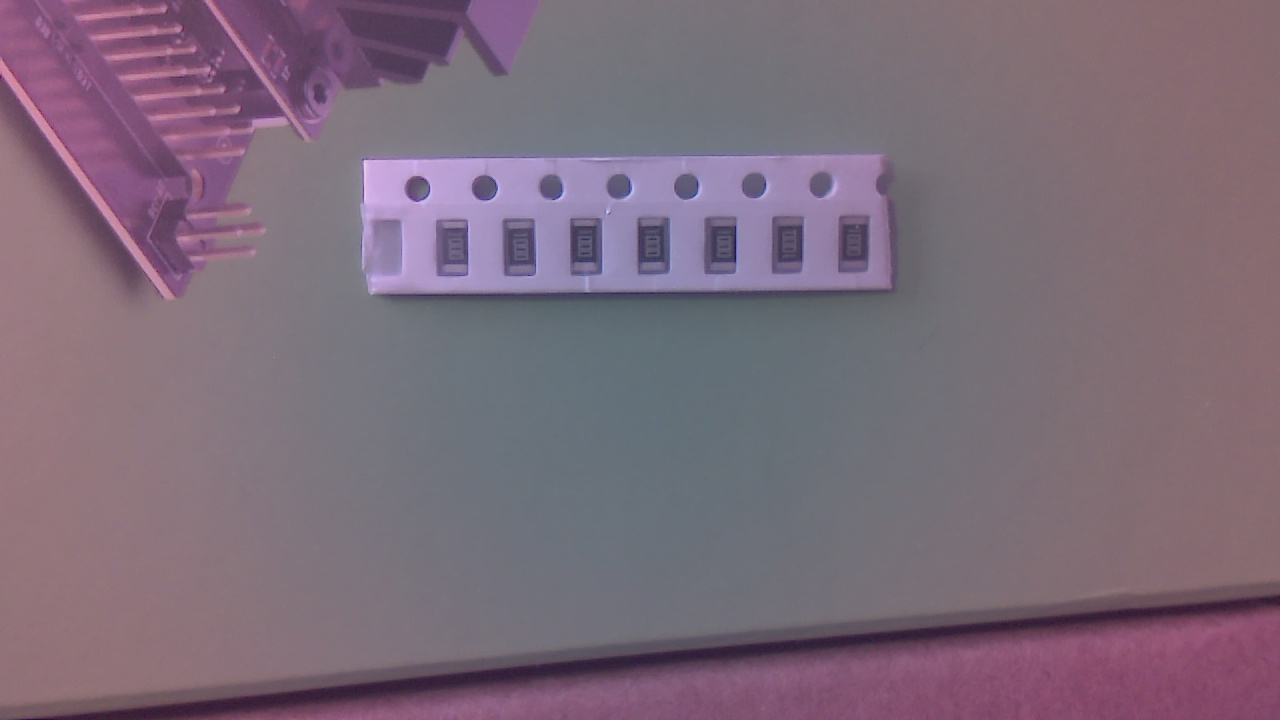Resistor: (505, 222, 543, 281), (439, 221, 476, 281), (774, 219, 810, 279), (841, 220, 876, 280), (709, 219, 743, 280), (574, 221, 608, 282), (641, 219, 676, 278)
